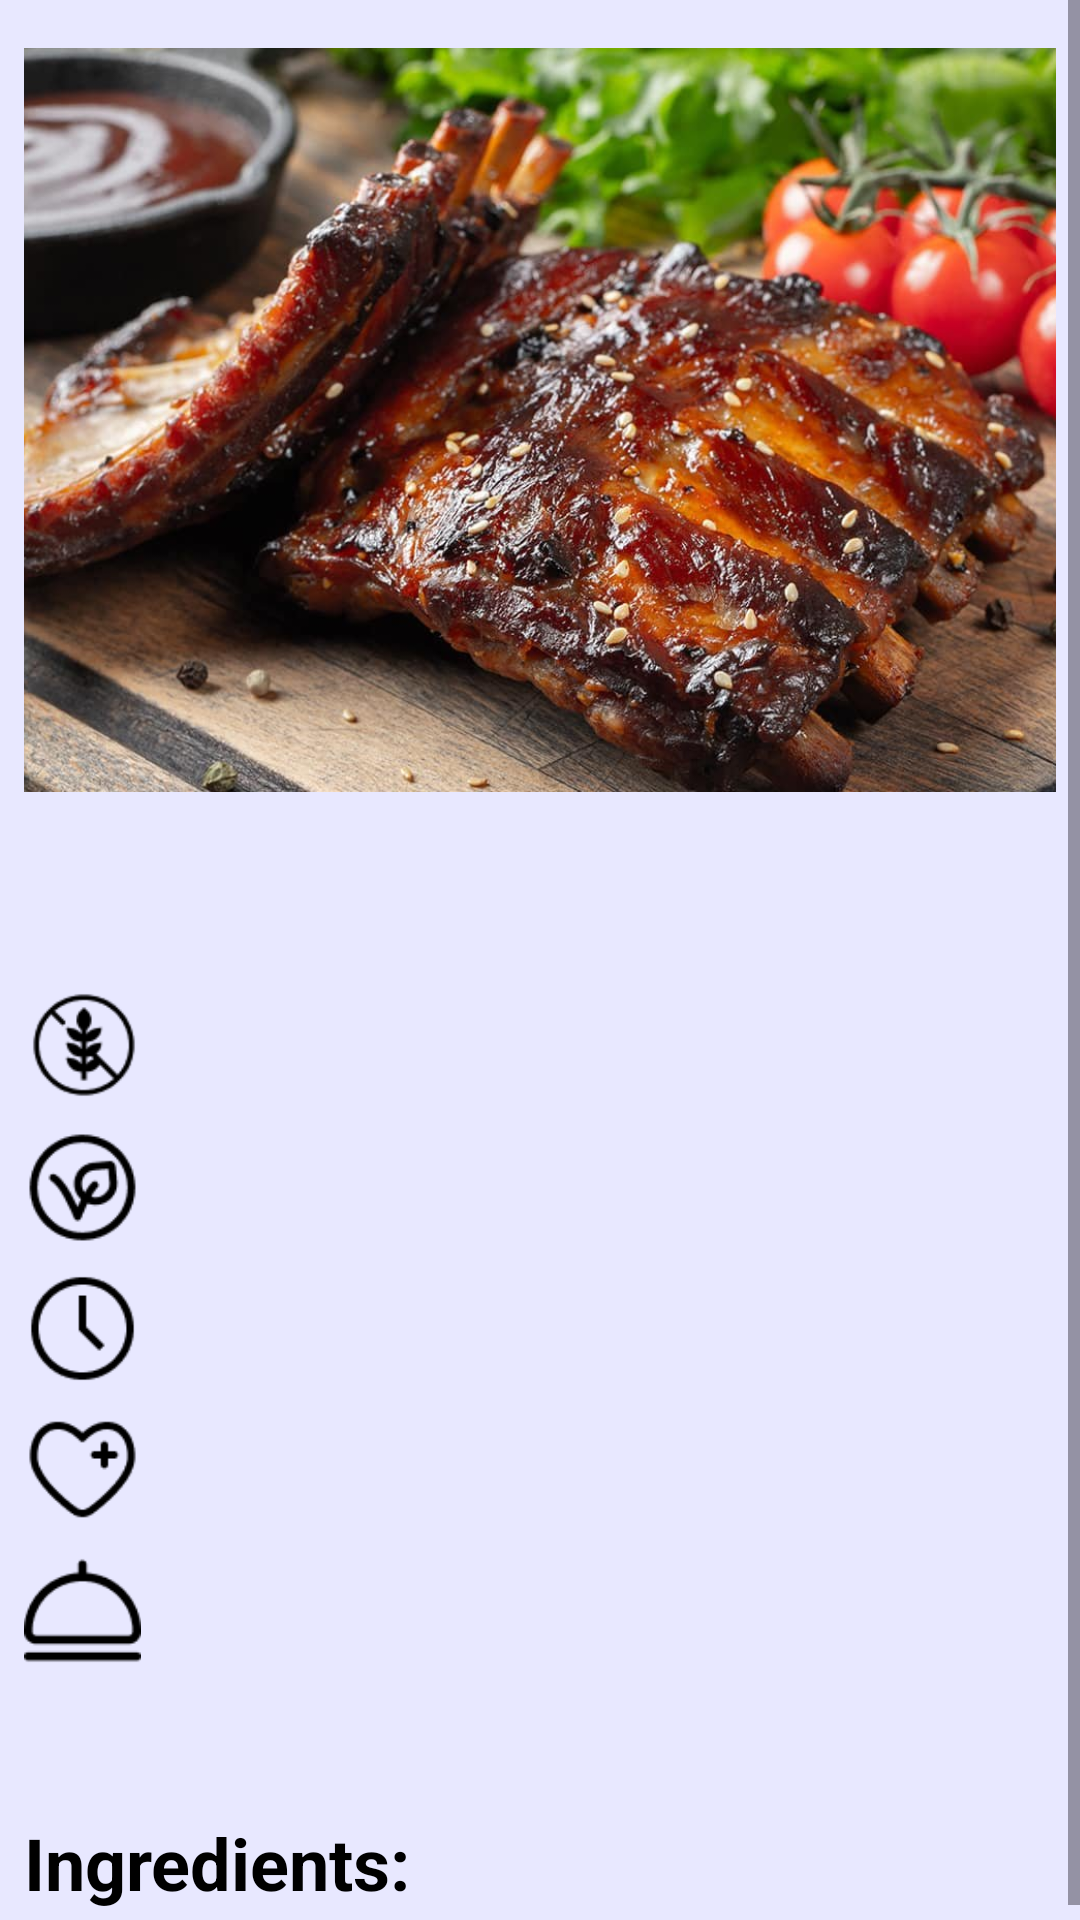

Where to tap for icons on this 1080px×1920px app screen, as (x=x, y=y):
gluten free: (x=84, y=1045)
health: (x=82, y=1469)
serving: (x=82, y=1610)
time: (x=82, y=1328)
vegan: (x=82, y=1187)
